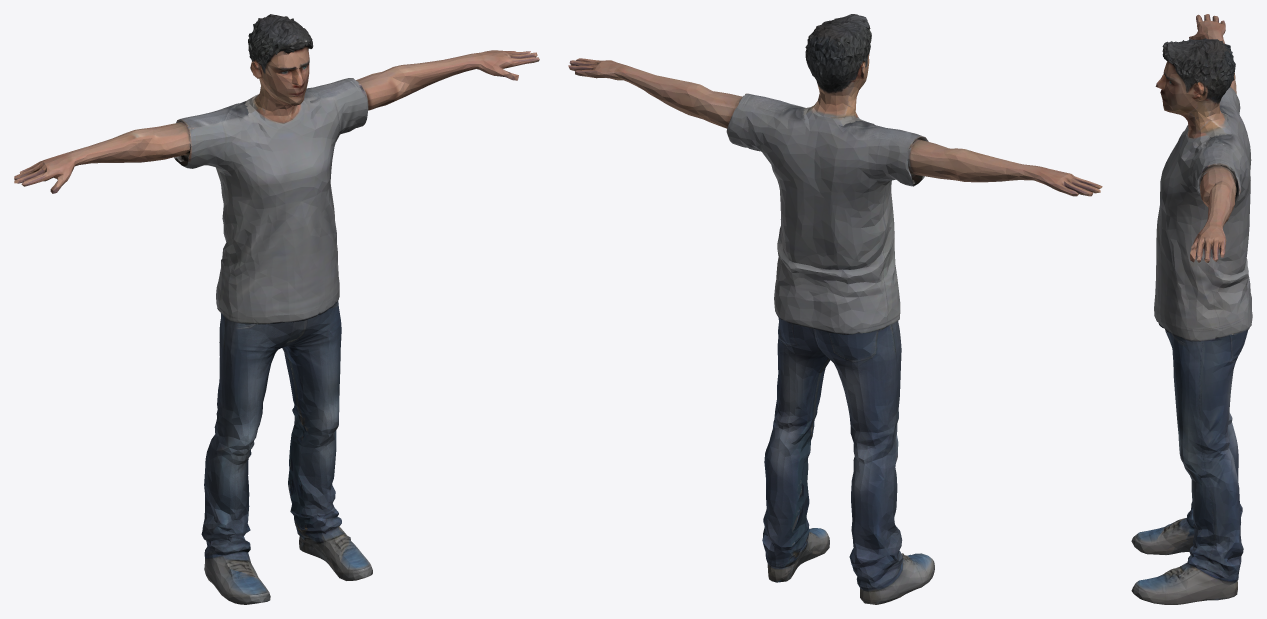
Rendered from T_Pose_Stand_0620194414_texture.fbx.
The picture shows the model from 3 angles, left to right: view 1: azimuth 30°, elevation 25°; view 2: azimuth 150°, elevation 25°; view 3: azimuth 270°, elevation 25°; orthographic projection. The views are drawn at different scales.
Parts seen in each view (by area): view 1: temp; view 2: temp; view 3: temp.
Part boxes in pixels (x1,y1,x2,y2): temp: (14,14,539,604); temp: (568,14,1102,604); temp: (1131,14,1252,604).
Bounding box in the file's own units: 197 × 198 × 40.84.
1 material, 1 textured.
